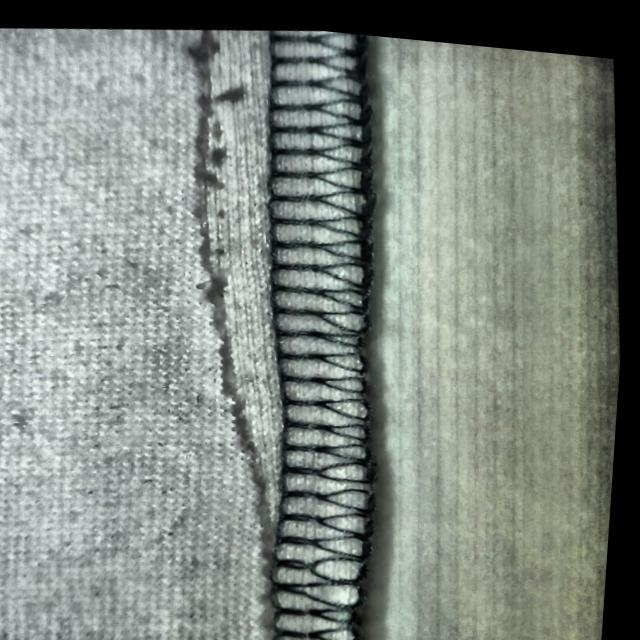seam: (132, 12, 413, 554)
